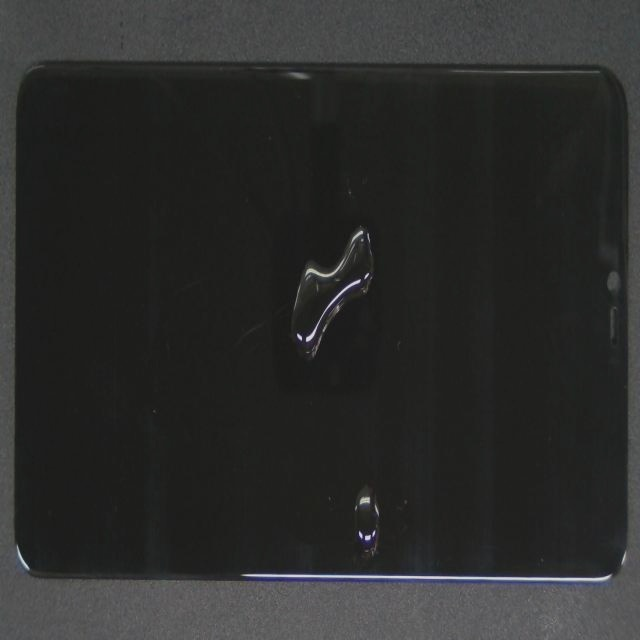oil: (202, 272, 567, 640), (118, 240, 497, 515)
